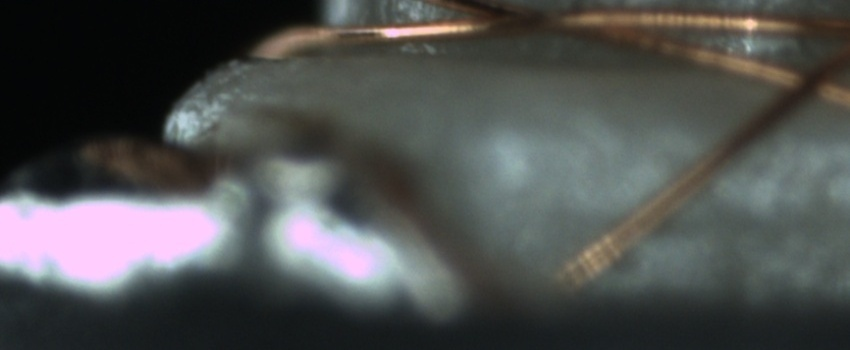CL: (770, 54, 843, 113)
DL: (536, 189, 849, 253), (513, 116, 849, 174)
